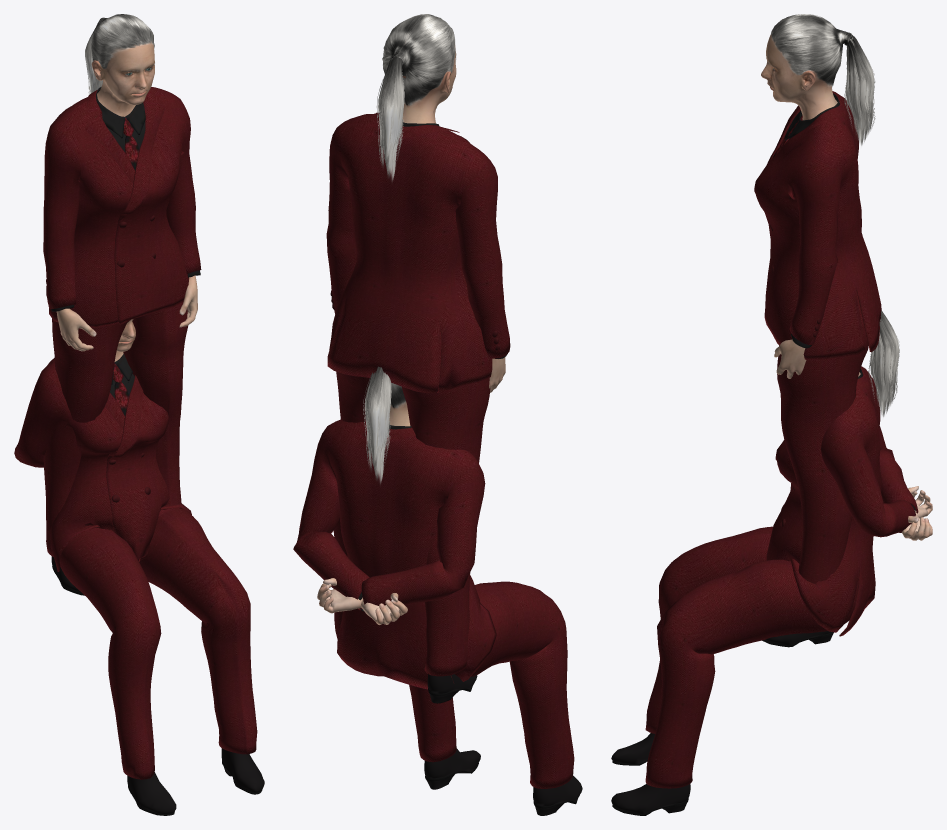
Rendered from civ_praesidentin_geisel.glb.
The picture shows the model from 3 angles, left to right: view 1: azimuth 30°, elevation 25°; view 2: azimuth 150°, elevation 25°; view 3: azimuth 270°, elevation 25°; orthographic projection. The views are drawn at different scales.
Visible parts, largest first — view 1: stand, bound_seat; view 2: stand, bound_seat; view 3: stand, bound_seat.
Boxes of the visible parts, x1,y1,x2,y2 form: stand: (43,14,201,595); bound_seat: (14,319,264,815); stand: (326,14,510,703); bound_seat: (293,366,582,815); stand: (754,14,881,647); bound_seat: (611,311,932,815).
Bounding box in the file's own units: 0.4527 × 2.09 × 0.7891.
7 materials, 7 textured.
